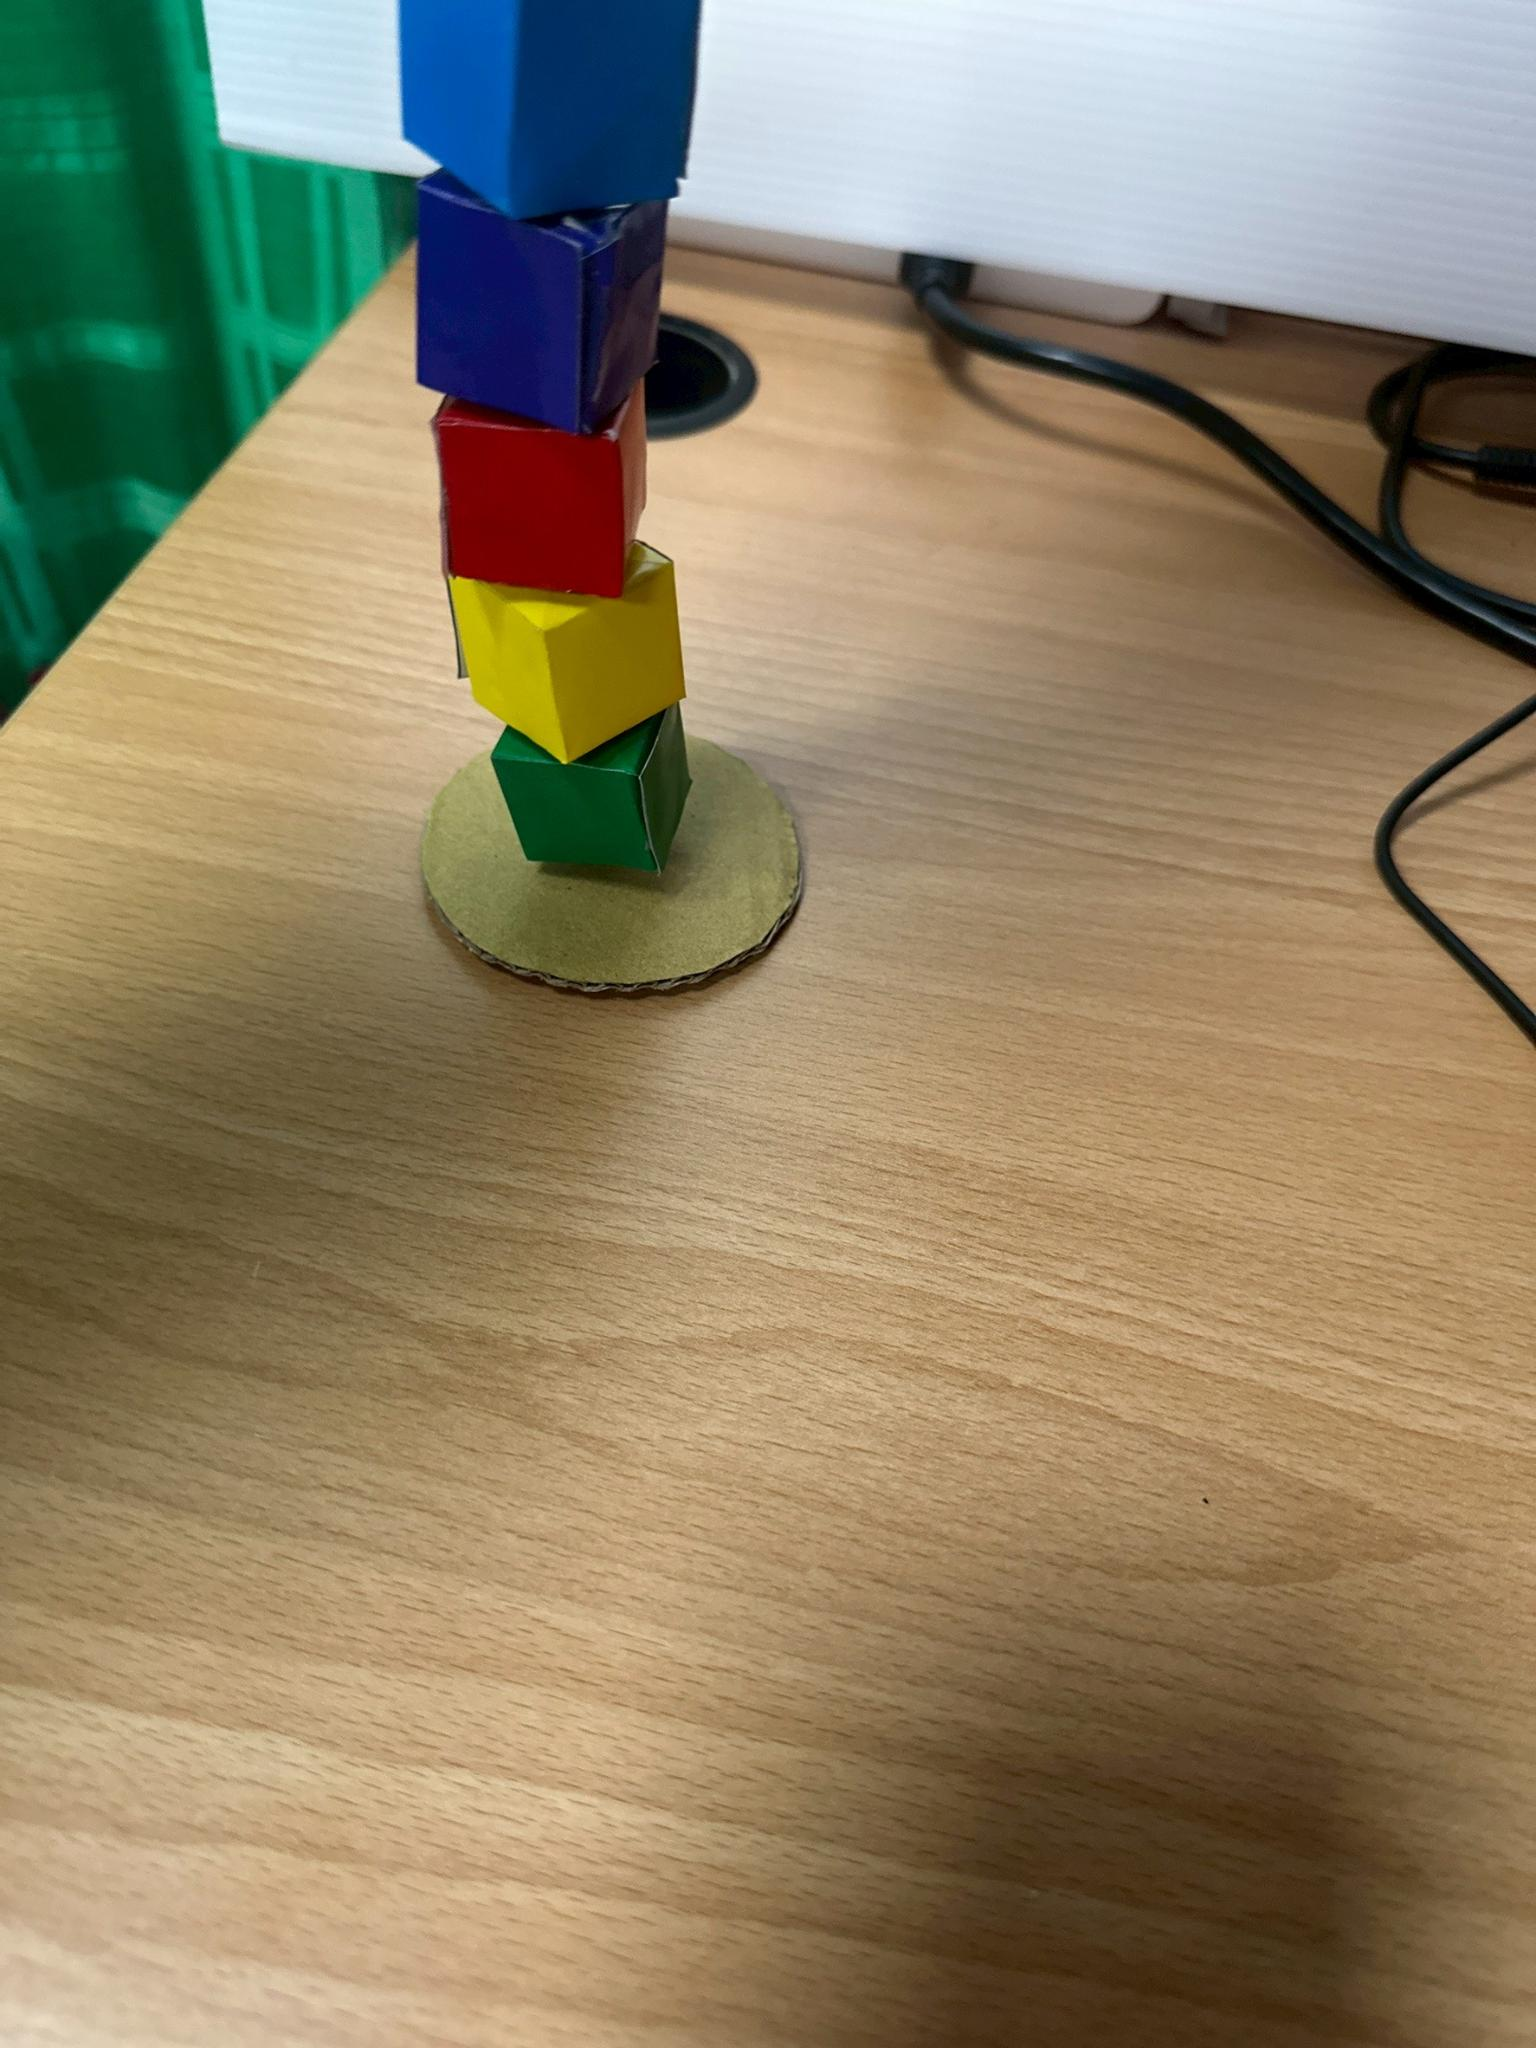base: (421, 735, 800, 990)
